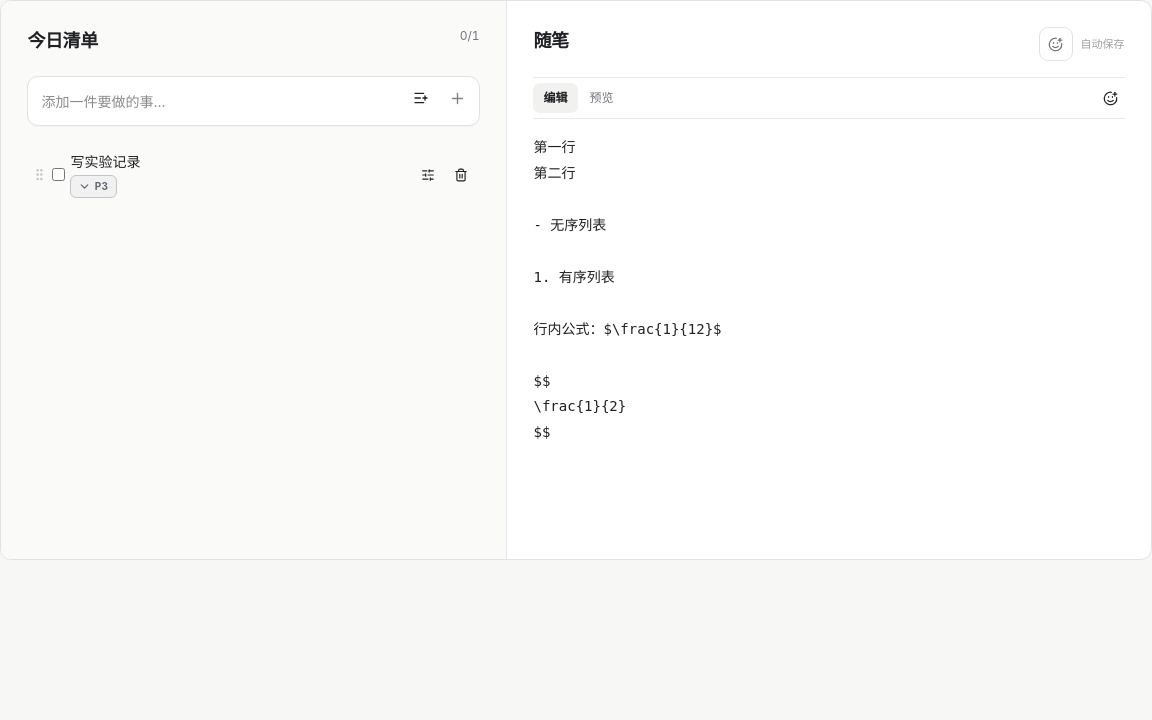
it: DailyWorkspace › renders lists, line breaks, and inline and display math in Markdown preview
This screenshot has width=1152, height=720.
Click the button "预览" at coordinates (602, 98), box [580, 84, 624, 114]
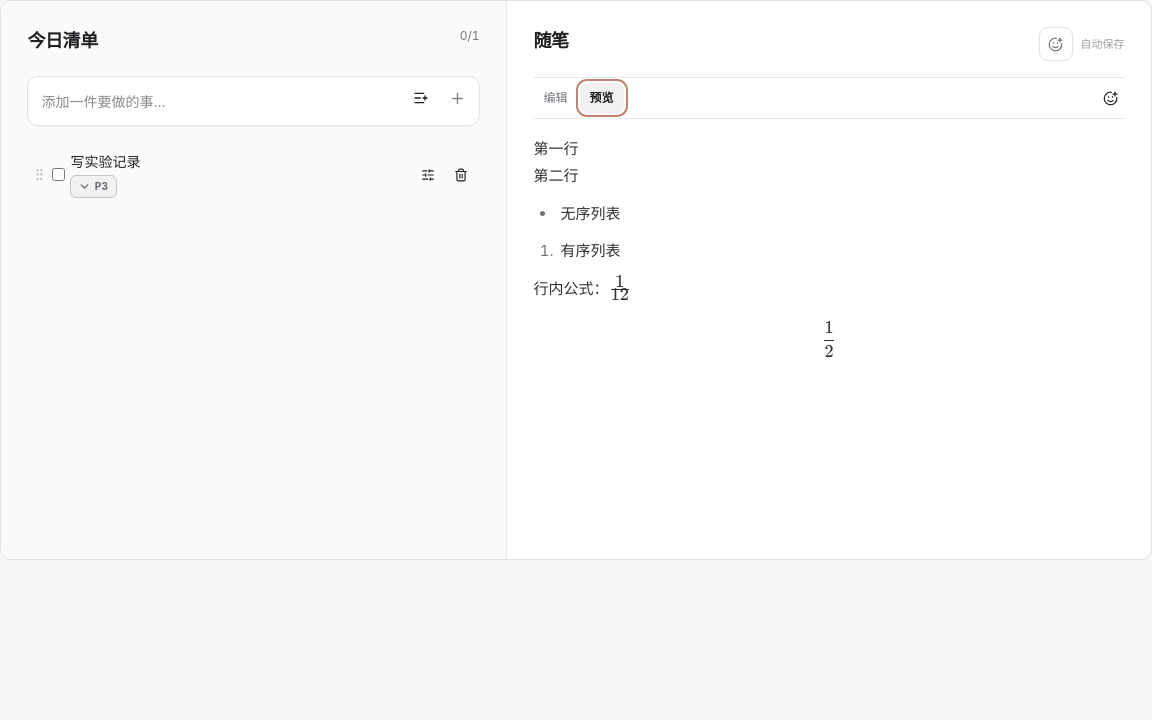
Check: the list item "无序列表" is shown, box [560, 204, 620, 223]
Check: the list item "有序列表" is shown, box [560, 242, 620, 260]
Check: the number of elements with class "katex" is 2, box [608, 278, 631, 299]; [824, 321, 838, 363]
